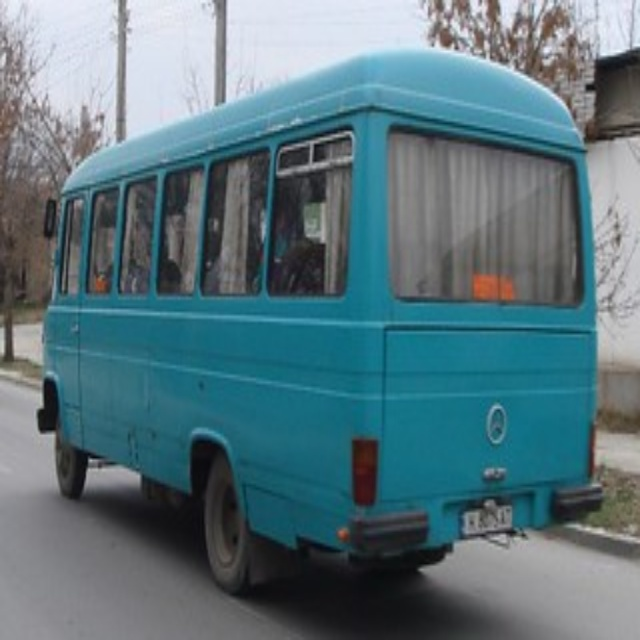Bus: (36, 44, 604, 599)
